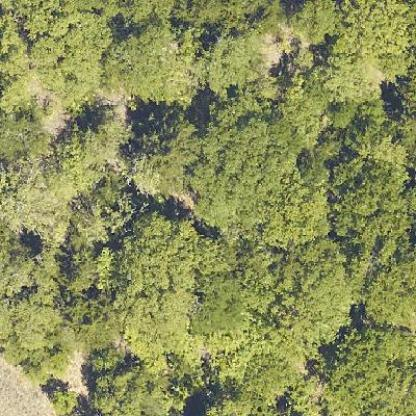tree-top: (192, 96, 292, 230), (115, 213, 196, 361), (96, 20, 200, 105), (25, 6, 113, 97), (325, 157, 411, 243), (330, 325, 415, 411), (84, 365, 178, 415), (202, 28, 268, 94), (0, 112, 51, 164), (62, 244, 113, 294), (286, 0, 340, 46), (45, 384, 81, 414)
